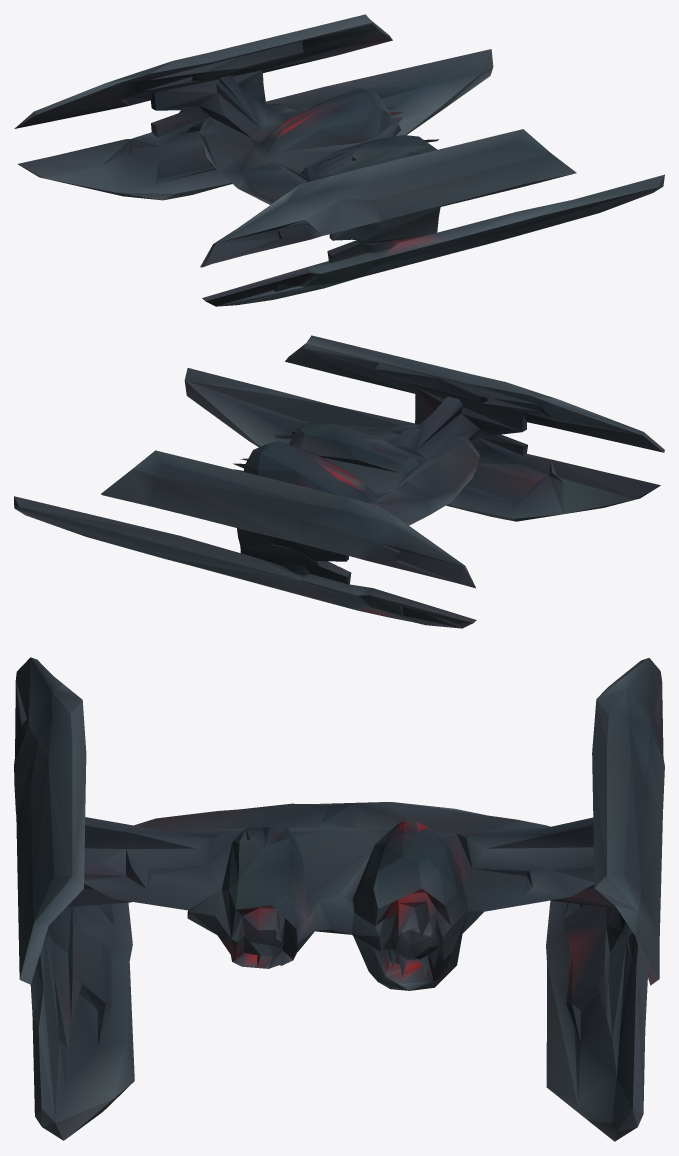
The model's file is hyena.glb.
3 renders of one model, top to bottom at view 1: azimuth 30°, elevation 25°; view 2: azimuth 150°, elevation 25°; view 3: azimuth 270°, elevation 25°, orthographic. The views are drawn at different scales.
Parts seen in each view (by area): view 1: hyena; view 2: hyena; view 3: hyena.
Part boxes in pixels (left/top/right/bottom): hyena: left=14, top=14, right=664, bottom=306; hyena: left=14, top=335, right=664, bottom=628; hyena: left=14, top=657, right=664, bottom=1141.
Size of the model in its own units: 29.97 by 7.5 by 21.06.
